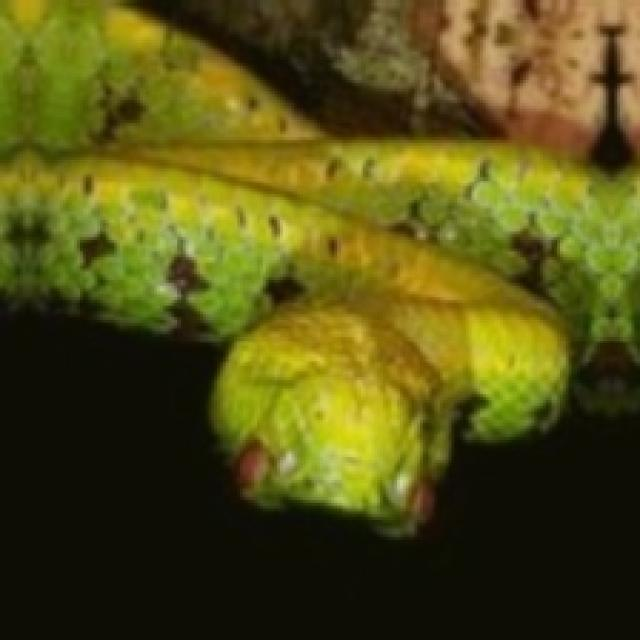philippine pitviper: (0, 0, 637, 531)
